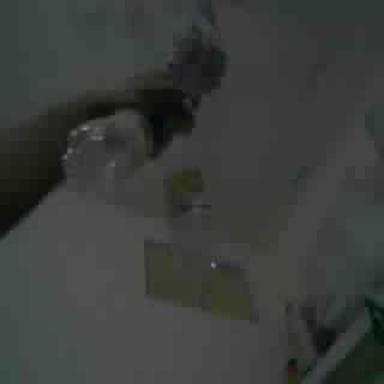bottle: (59, 102, 165, 202), (162, 123, 224, 289)
paper: (167, 0, 226, 99)
